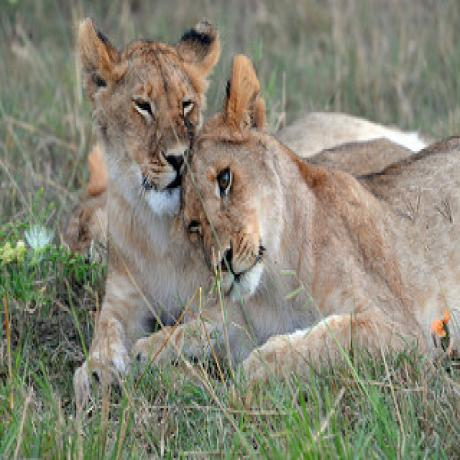Lion: (186, 45, 460, 367), (70, 0, 209, 389)
